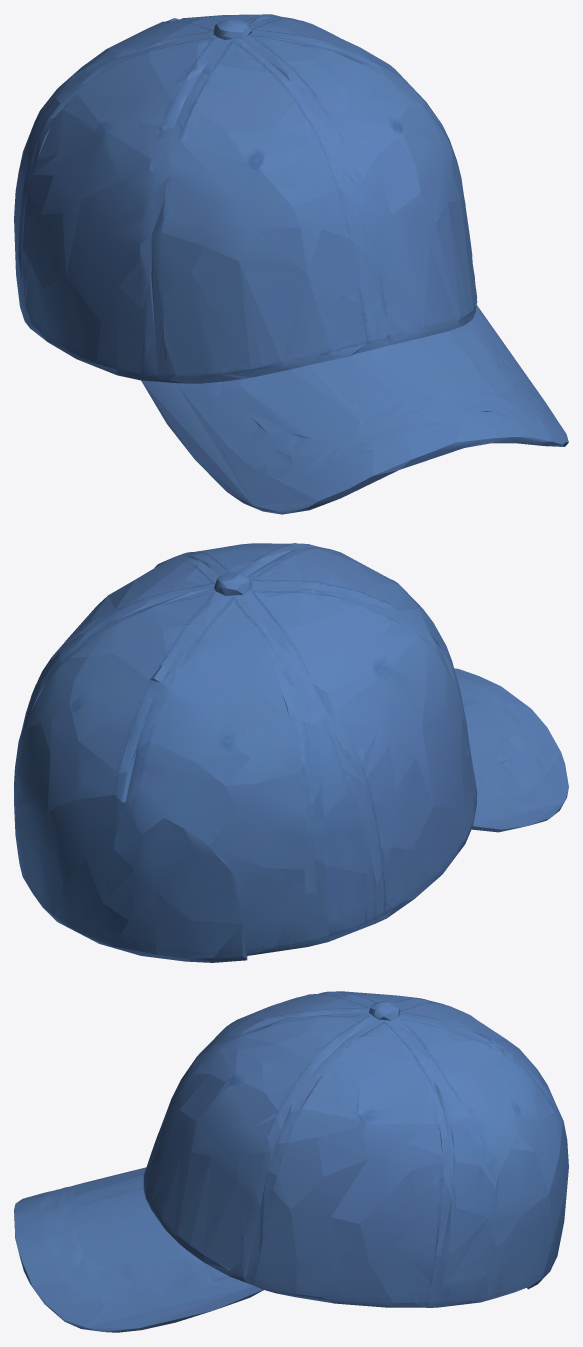
The model's file is cap_baseball.glb.
The picture shows the model from 3 angles, top to bottom: view 1: azimuth 30°, elevation 25°; view 2: azimuth 150°, elevation 25°; view 3: azimuth 270°, elevation 25°; orthographic projection. The views are drawn at different scales.
Parts seen in each view (by area): view 1: Mesh_0; view 2: Mesh_0; view 3: Mesh_0.
Part boxes in pixels (x1,y1,x2,y2): Mesh_0: (14, 14, 568, 514); Mesh_0: (14, 543, 568, 962); Mesh_0: (14, 991, 568, 1332).
Size of the model in its own units: 0.2 by 0.1664 by 0.3139.
Materials: 1 (1 with a texture image).
